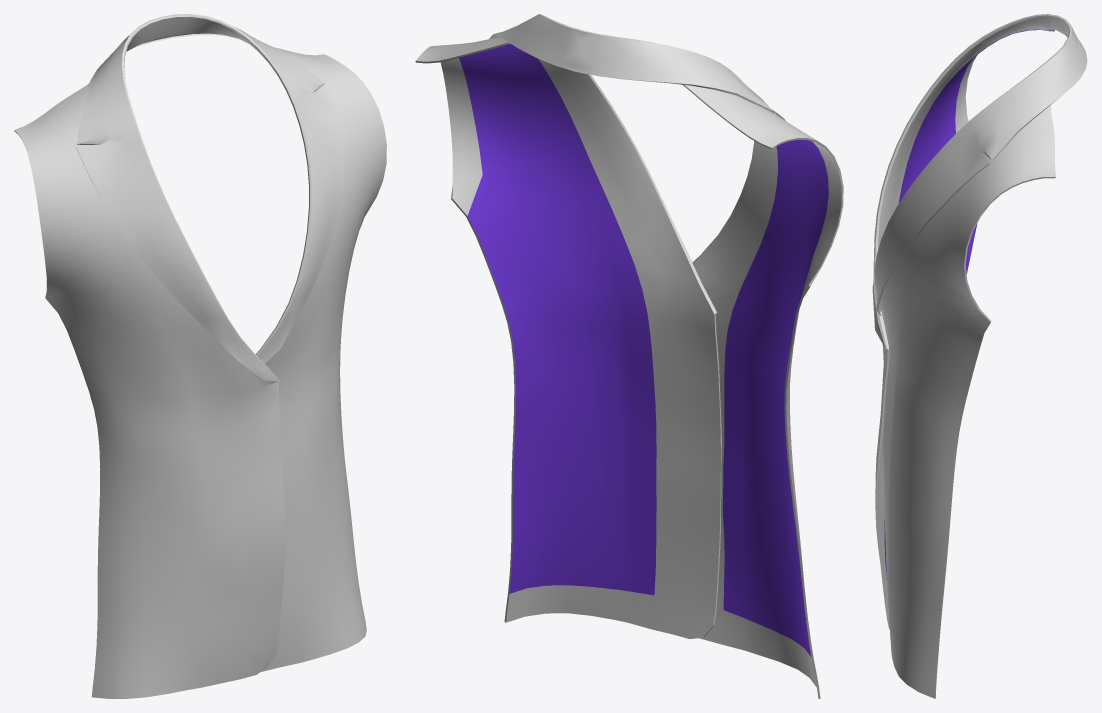
File: Jacket_03_Test.fbx
The picture shows the model from 3 angles, left to right: view 1: azimuth 30°, elevation 25°; view 2: azimuth 150°, elevation 25°; view 3: azimuth 270°, elevation 25°; orthographic projection. The views are drawn at different scales.
Parts seen in each view (by area): view 1: Single-Breasted Peak Lapel 9cm; view 2: Single-Breasted Peak Lapel 9cm; view 3: Single-Breasted Peak Lapel 9cm.
Part boxes in pixels (x1,y1,x2,y2): Single-Breasted Peak Lapel 9cm: [14, 14, 386, 698]; Single-Breasted Peak Lapel 9cm: [415, 14, 843, 698]; Single-Breasted Peak Lapel 9cm: [872, 14, 1087, 698].
Size of the model in its own units: 41.45 by 68.4 by 22.19.
